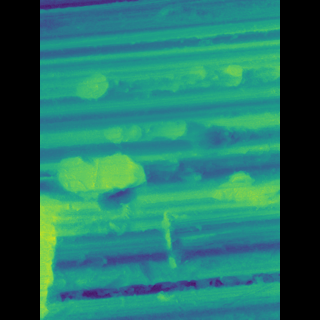Loch: (80, 147, 152, 204), (67, 203, 98, 320), (117, 115, 181, 147), (198, 167, 243, 211), (95, 68, 123, 101), (205, 63, 222, 88)
